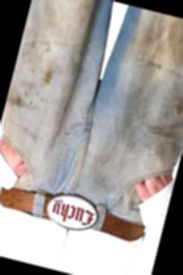earth: (162, 17, 183, 68), (40, 68, 53, 89), (9, 92, 24, 110), (173, 93, 183, 118)
